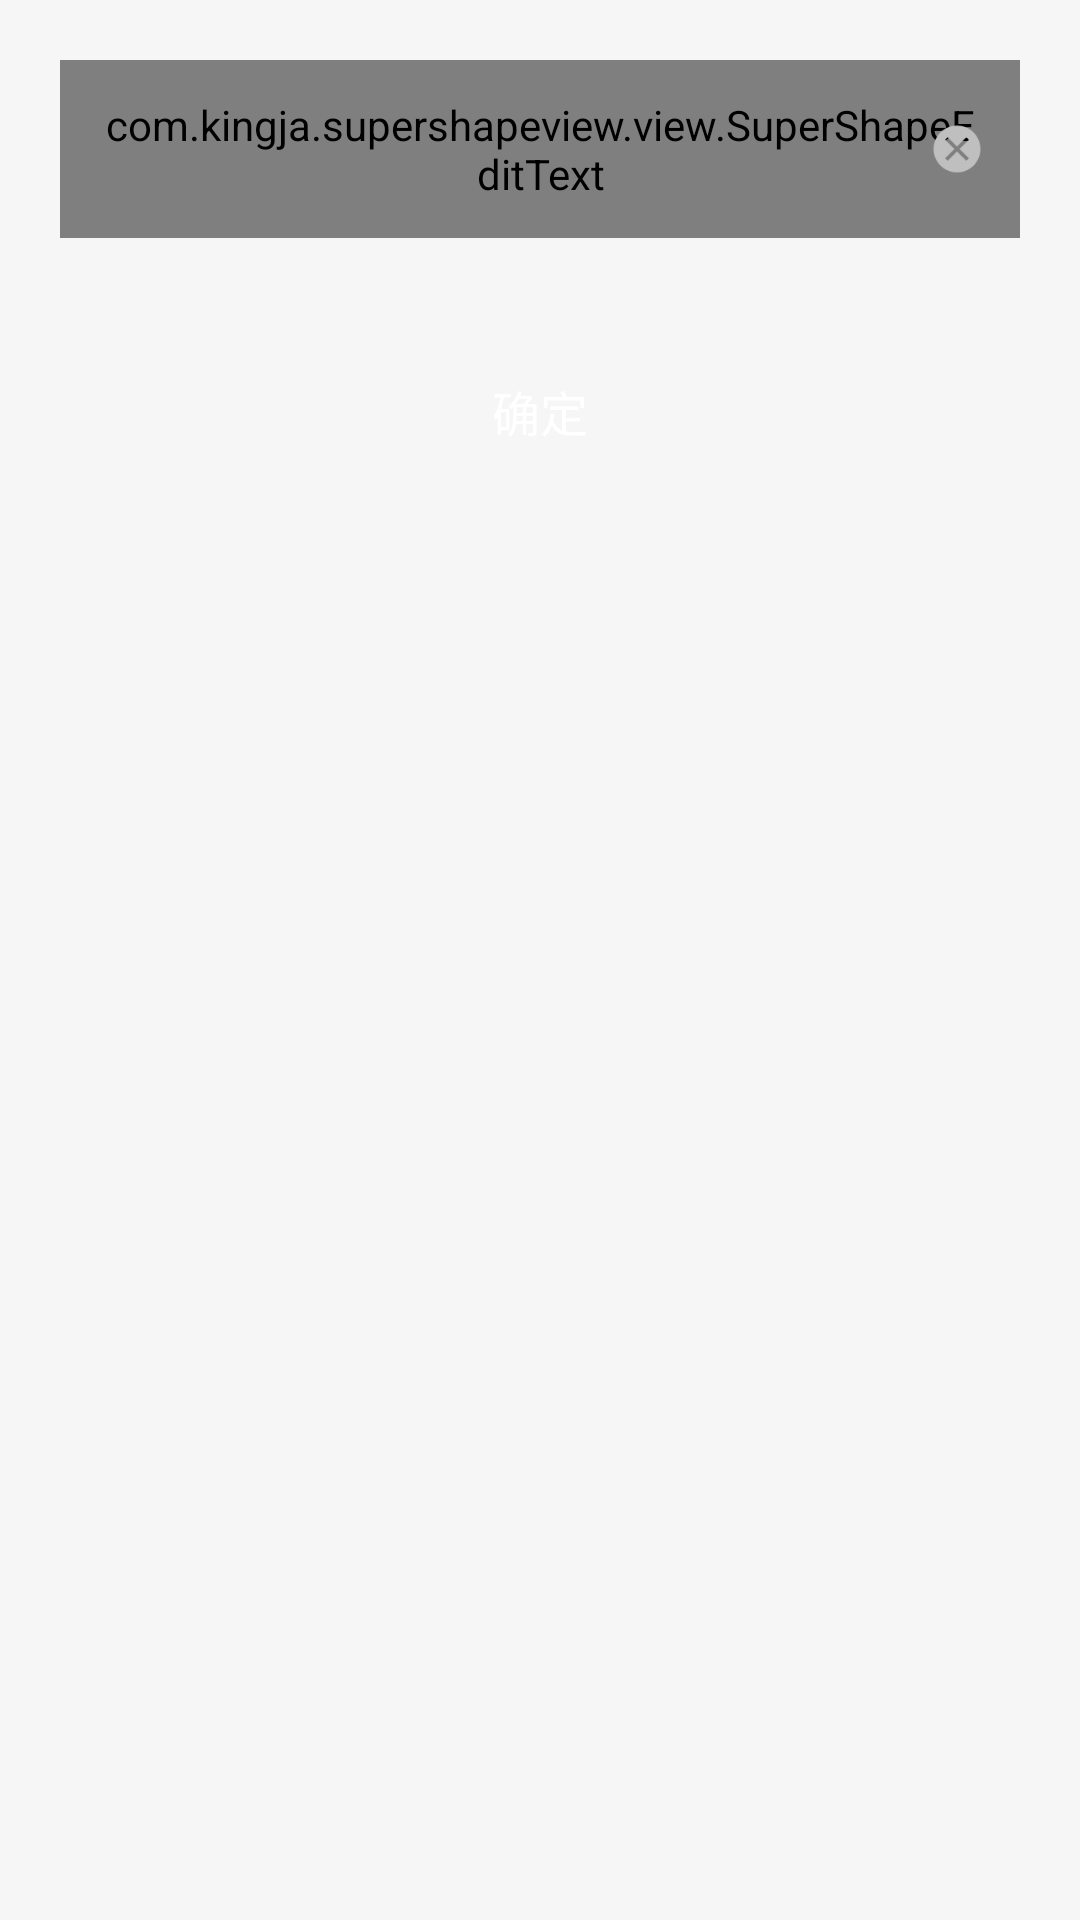

Named icons in this screenshot (1080 x 1920) and their bounding boxes, (x1, y1, x2, y2):
clear: (931, 122, 981, 173)
